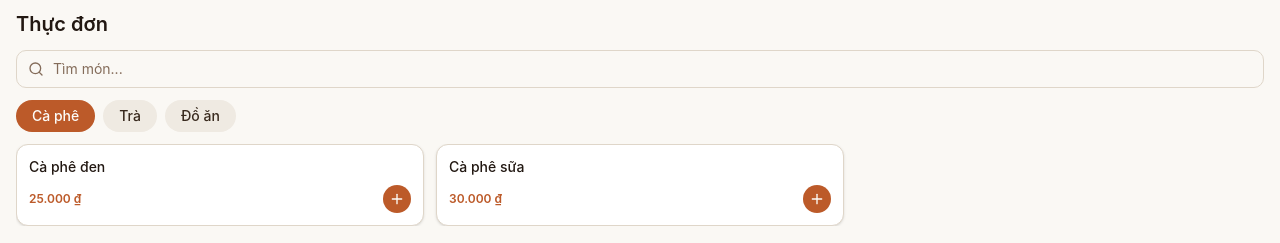
it: MenuGrid › filters items in the active group case-insensitively and trimming whitespace
Note: Mixed case + leading/trailing spaces
Type "  CÀ PHÊ SỮA  " into the search field. click: (640,69)
box: [16,50,1264,88]
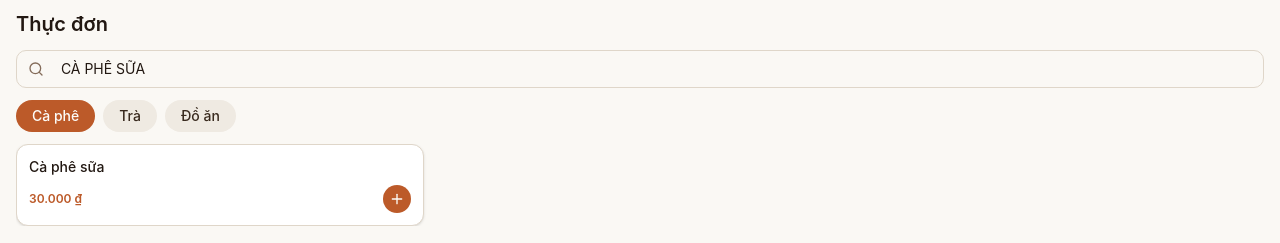
Expected: the text "Cà phê sữa" is shown, [29,158,104,175]
Now the text "Cà phê đen" is gone
